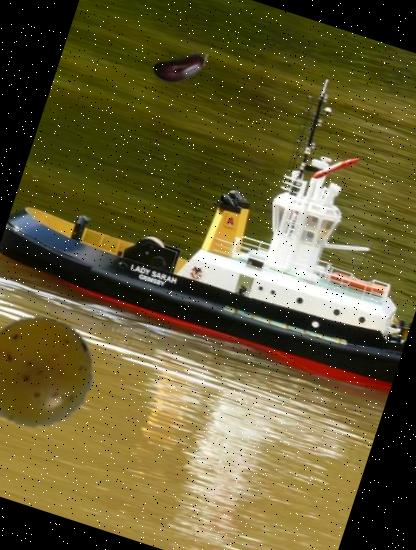Eggplant: (144, 30, 220, 106)
Grape: (0, 302, 107, 441)
